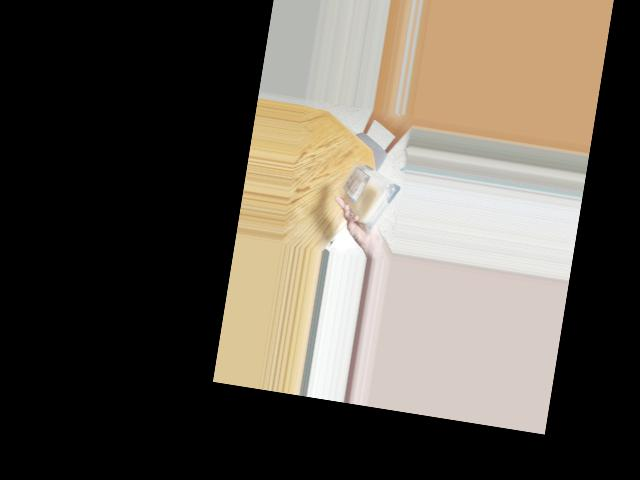cheese: (343, 161, 398, 234)
